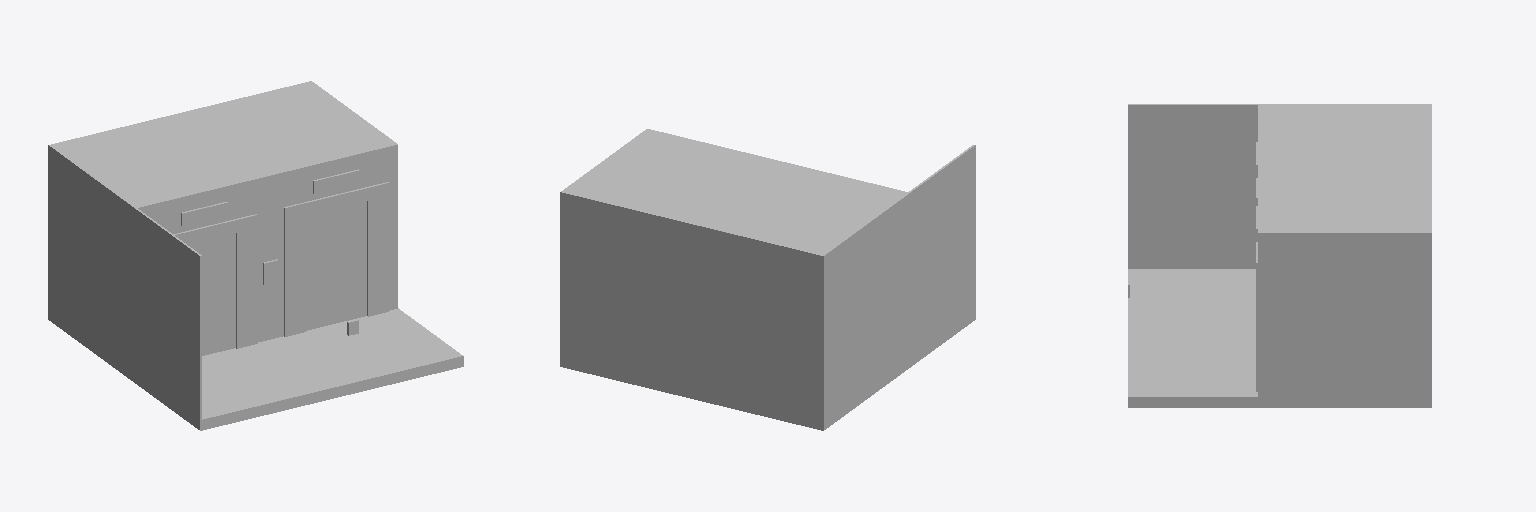
Rendered from 4x2 third-4.obj.
3 renders of one model, left to right at view 1: azimuth 30°, elevation 25°; view 2: azimuth 150°, elevation 25°; view 3: azimuth 270°, elevation 25°, orthographic.
Parts seen in each view (by area): view 1: 4x2 third-4; view 2: 4x2 third-4; view 3: 4x2 third-4.
Part boxes in pixels (x1,y1,x2,y2): 4x2 third-4: (48, 81, 463, 430); 4x2 third-4: (560, 129, 975, 430); 4x2 third-4: (1128, 104, 1431, 407).
Size of the model in its own units: 126 by 80 by 126.